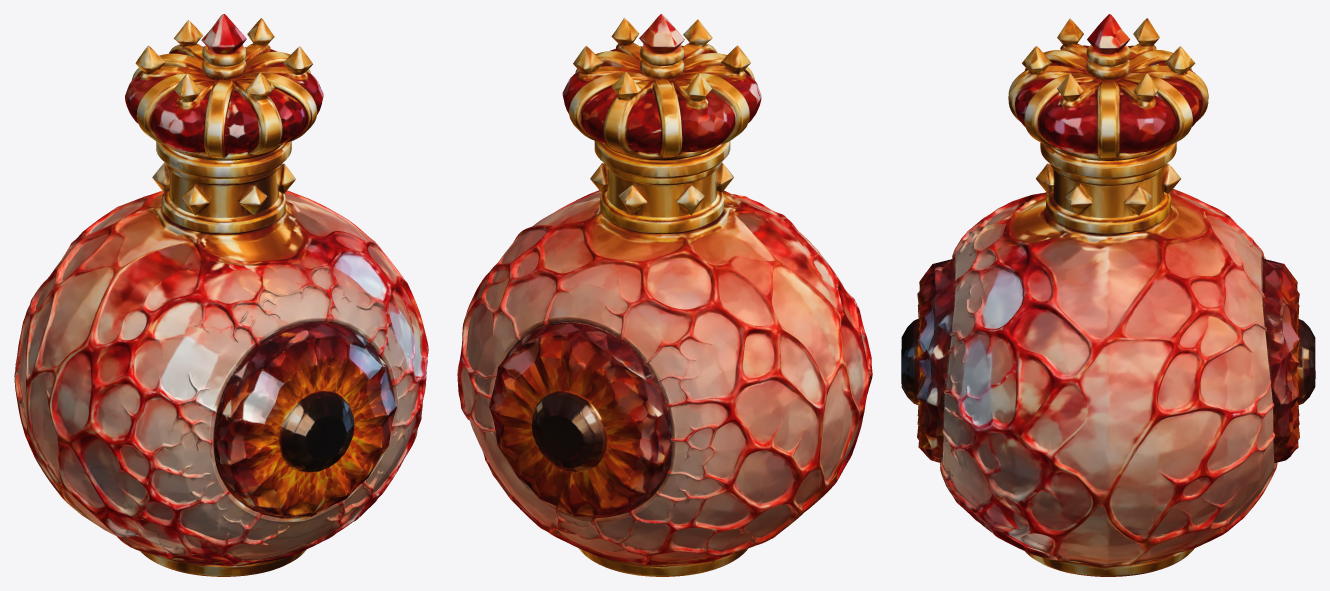
The model's file is bottle-eye1.glb.
3 renders of one model, left to right at view 1: azimuth 30°, elevation 25°; view 2: azimuth 150°, elevation 25°; view 3: azimuth 270°, elevation 25°, orthographic.
Visible parts, largest first — view 1: tripo_node_a222caa9-6456-4f56-adcd-0ec977565116; view 2: tripo_node_a222caa9-6456-4f56-adcd-0ec977565116; view 3: tripo_node_a222caa9-6456-4f56-adcd-0ec977565116.
Boxes of the visible parts, x1,y1,x2,y2 form: tripo_node_a222caa9-6456-4f56-adcd-0ec977565116: (14, 14, 428, 576); tripo_node_a222caa9-6456-4f56-adcd-0ec977565116: (457, 14, 872, 576); tripo_node_a222caa9-6456-4f56-adcd-0ec977565116: (901, 14, 1315, 576).
Size of the model in its own units: 0.6975 by 0.9779 by 0.6942.
1 material, 1 textured.
